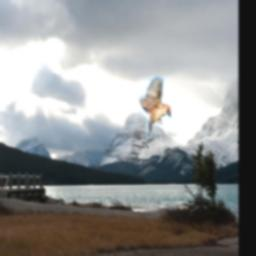Sparrow: (140, 77, 172, 140)
